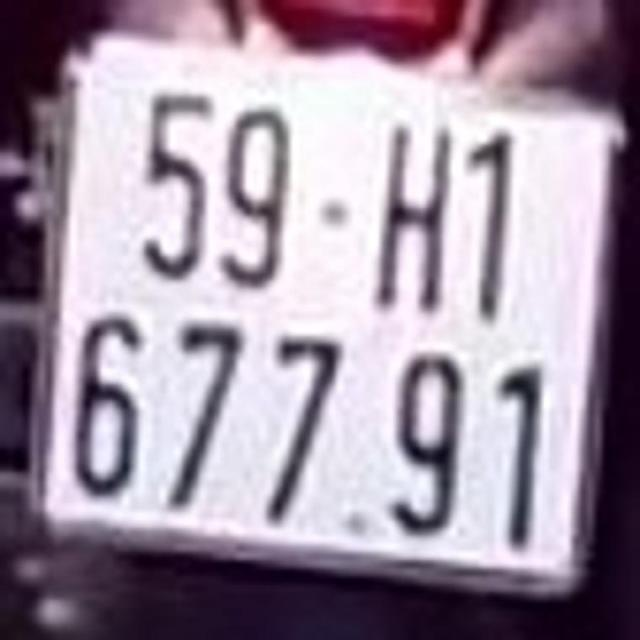1: (491, 355, 549, 552), (464, 120, 517, 323)
5: (138, 85, 212, 281)
6: (72, 307, 143, 500)
7: (163, 313, 245, 513), (264, 322, 343, 526)
9: (386, 340, 465, 539), (220, 95, 291, 290)
H: (375, 113, 454, 316)
